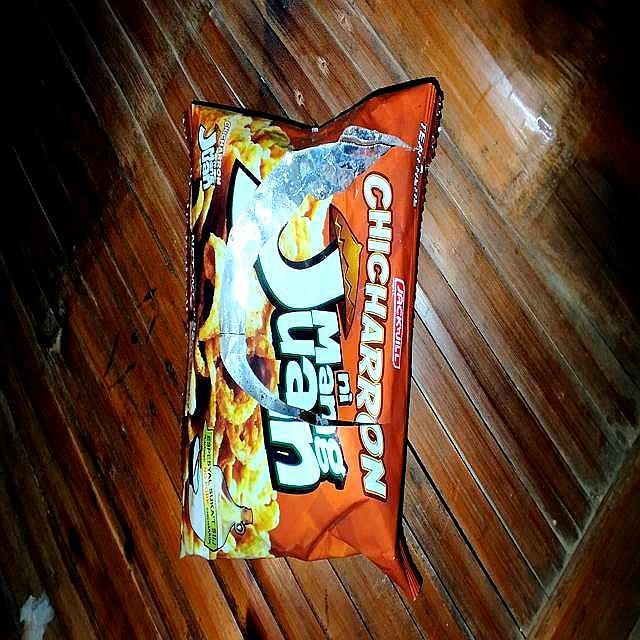Non-biodegradable: (179, 76, 445, 601)
